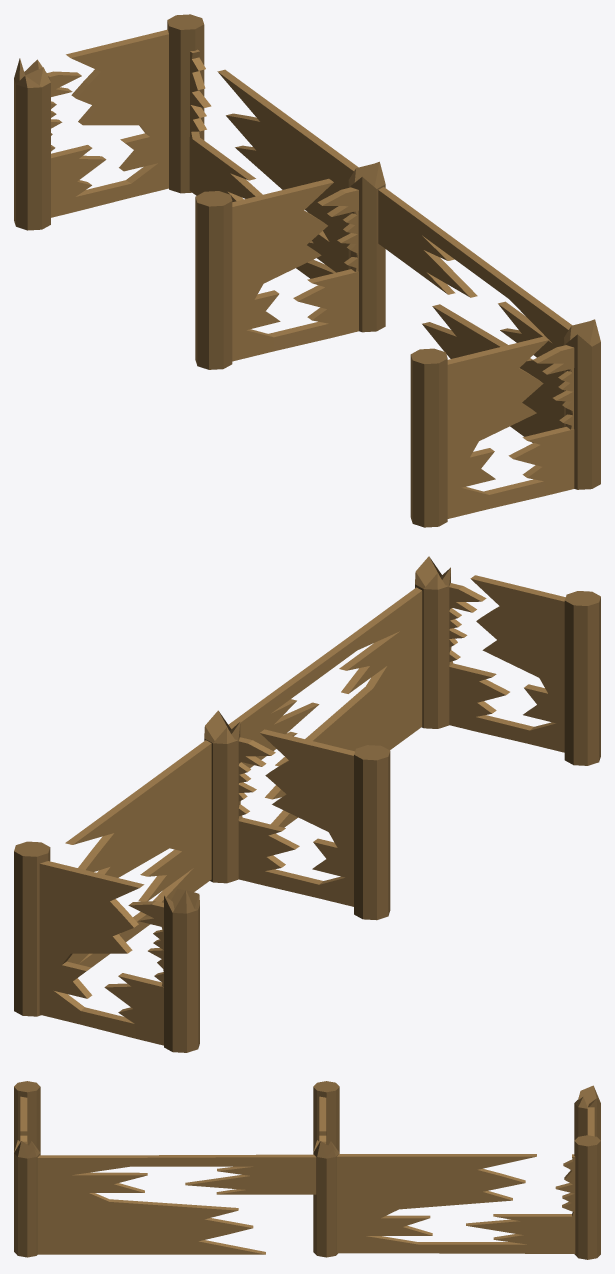
The model's file is RuinedHouseStuff2.fbx.
3 renders of one model, top to bottom at view 1: azimuth 30°, elevation 25°; view 2: azimuth 150°, elevation 25°; view 3: azimuth 270°, elevation 25°, orthographic. The views are drawn at different scales.
Visible parts, largest first — view 1: Cube.104; view 2: Cube.104; view 3: Cube.104.
Boxes of the visible parts, left/top/right/bottom form: Cube.104: left=14, top=14, right=600, bottom=527; Cube.104: left=14, top=556, right=600, bottom=1052; Cube.104: left=14, top=1081, right=600, bottom=1259.
Size of the model in its own units: 270 by 220 by 1026.
